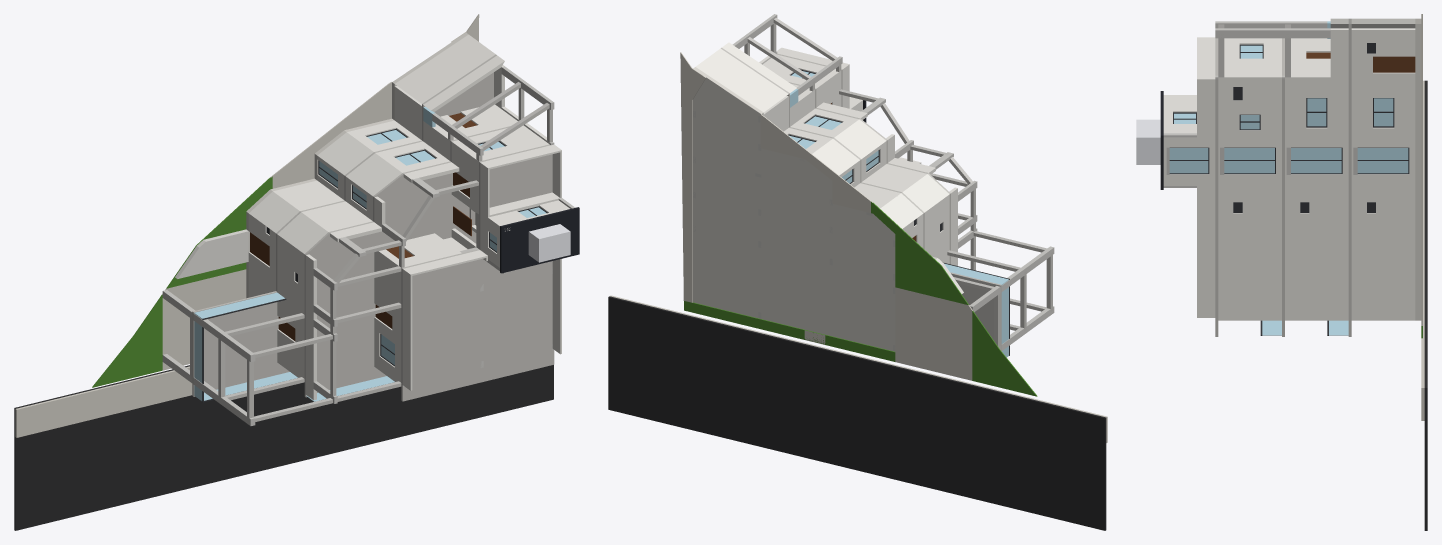
The model's file is daata_hamlet.glb.
The picture shows the model from 3 angles, left to right: view 1: azimuth 30°, elevation 25°; view 2: azimuth 150°, elevation 25°; view 3: azimuth 270°, elevation 25°; orthographic projection. The views are drawn at different scales.
Visible parts, largest first — view 1: Plaster_White_Stucco, RCC_Concrete_Slabs, Public_Road_Asphalt, Exterior_Stone_Paving, RCC_Tie_Beams, RCC_Columns_Concealed, Landscape_Lawn_Grass, Architectural_Glass, Canopy_Charcoal_Bronze, Interior_Marble_Flooring, Walnut_Entry_Door, Overhead_Water_Tank (+2 smaller); view 2: Public_Road_Asphalt, Interior_Flooring, Plaster_White_Stucco, Exterior_Stone_Paving, Landscape_Lawn_Grass, RCC_Tie_Beams, RCC_Columns_Concealed, RCC_Concrete_Slabs, Architectural_Glass; view 3: Plaster_White_Stucco, Architectural_Glass, RCC_Concrete_Slabs, Aluminum_Graphite_Frames, RCC_Columns_Concealed, Interior_Flooring, Public_Road_Asphalt, Exterior_Stone_Paving, Overhead_Water_Tank, RCC_Tie_Beams, Walnut_Entry_Door, Canopy_Charcoal_Bronze.
Part boxes in pixels (left/top/right/bottom): Plaster_White_Stucco: left=248, top=34, right=569, bottom=400; RCC_Concrete_Slabs: left=192, top=54, right=554, bottom=401; Public_Road_Asphalt: left=14, top=365, right=553, bottom=530; Exterior_Stone_Paving: left=15, top=14, right=479, bottom=437; RCC_Tie_Beams: left=190, top=82, right=552, bottom=421; RCC_Columns_Concealed: left=162, top=66, right=575, bottom=425; Landscape_Lawn_Grass: left=92, top=176, right=272, bottom=387; Architectural_Glass: left=194, top=106, right=546, bottom=401; Canopy_Charcoal_Bronze: left=500, top=207, right=579, bottom=273; Interior_Marble_Flooring: left=175, top=229, right=248, bottom=278; Walnut_Entry_Door: left=250, top=113, right=476, bottom=340; Overhead_Water_Tank: left=528, top=224, right=570, bottom=262; Public_Road_Asphalt: left=608, top=296, right=1106, bottom=530; Interior_Flooring: left=693, top=67, right=895, bottom=350; Plaster_White_Stucco: left=695, top=42, right=957, bottom=265; Exterior_Stone_Paving: left=610, top=52, right=1107, bottom=442; Landscape_Lawn_Grass: left=684, top=201, right=1037, bottom=396; RCC_Tie_Beams: left=744, top=18, right=1052, bottom=346; RCC_Columns_Concealed: left=693, top=14, right=1054, bottom=351; RCC_Concrete_Slabs: left=721, top=47, right=1001, bottom=350; Architectural_Glass: left=789, top=71, right=1008, bottom=357; Plaster_White_Stucco: left=1163, top=18, right=1415, bottom=320; Architectural_Glass: left=1169, top=21, right=1408, bottom=335; RCC_Concrete_Slabs: left=1215, top=18, right=1351, bottom=336; Aluminum_Graphite_Frames: left=1169, top=43, right=1409, bottom=335; RCC_Columns_Concealed: left=1163, top=21, right=1330, bottom=187; Interior_Flooring: left=1415, top=18, right=1421, bottom=320; Public_Road_Asphalt: left=1424, top=80, right=1427, bottom=530; Exterior_Stone_Paving: left=1421, top=14, right=1424, bottom=420; Overhead_Water_Tank: left=1136, top=119, right=1160, bottom=164; RCC_Tie_Beams: left=1166, top=24, right=1357, bottom=174; Walnut_Entry_Door: left=1306, top=52, right=1415, bottom=72; Canopy_Charcoal_Bronze: left=1160, top=91, right=1163, bottom=189.
Size of the model in its own units: 36.58 by 26.26 by 14.63.
